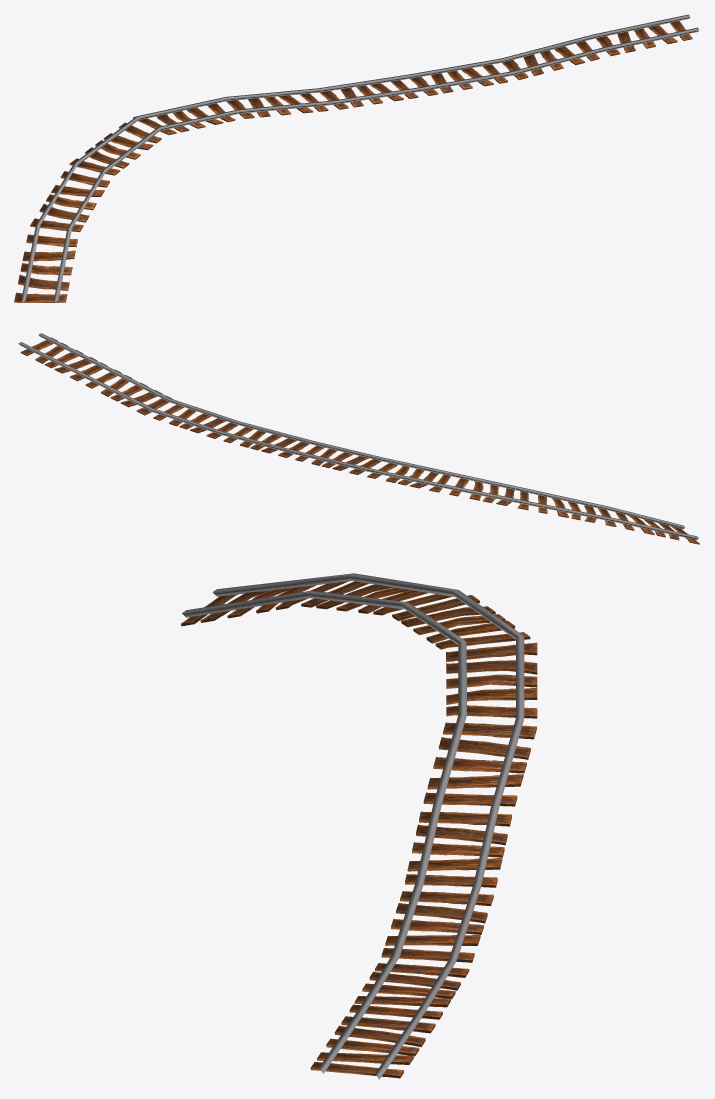
The model's file is SWORDLIGHT20_TRACK3.obj.
3 renders of one model, top to bottom at view 1: azimuth 30°, elevation 25°; view 2: azimuth 150°, elevation 25°; view 3: azimuth 270°, elevation 25°, orthographic. The views are drawn at different scales.
Visible parts, largest first — view 1: Track3; view 2: Track3; view 3: Track3.
Part boxes in pixels (<box>): Track3: <box>14,14,698,302</box>; Track3: <box>18,333,699,544</box>; Track3: <box>180,573,537,1079</box>.
Bounding box in the file's own units: 2637 × 287 × 637.
